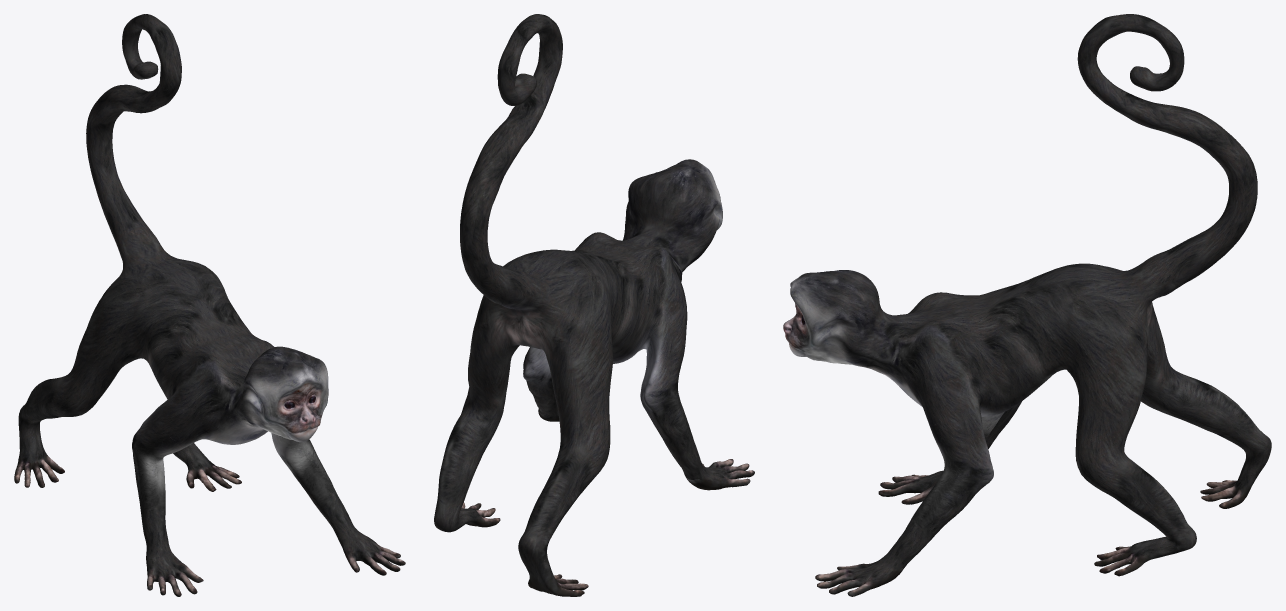
The model's file is MonoCraBlance.glb.
3 views of the same model, side by side, from view 1: azimuth 30°, elevation 25°; view 2: azimuth 150°, elevation 25°; view 3: azimuth 270°, elevation 25° (orthographic). The views are drawn at different scales.
Parts seen in each view (by area): view 1: MonoCaraBlanca; view 2: MonoCaraBlanca; view 3: MonoCaraBlanca.
Part boxes in pixels (x1,y1,x2,y2): MonoCaraBlanca: [14, 14, 405, 596]; MonoCaraBlanca: [434, 14, 754, 596]; MonoCaraBlanca: [783, 14, 1271, 596].
Size of the model in its own units: 17.15 by 35.08 by 29.87.
1 material, 1 textured.
